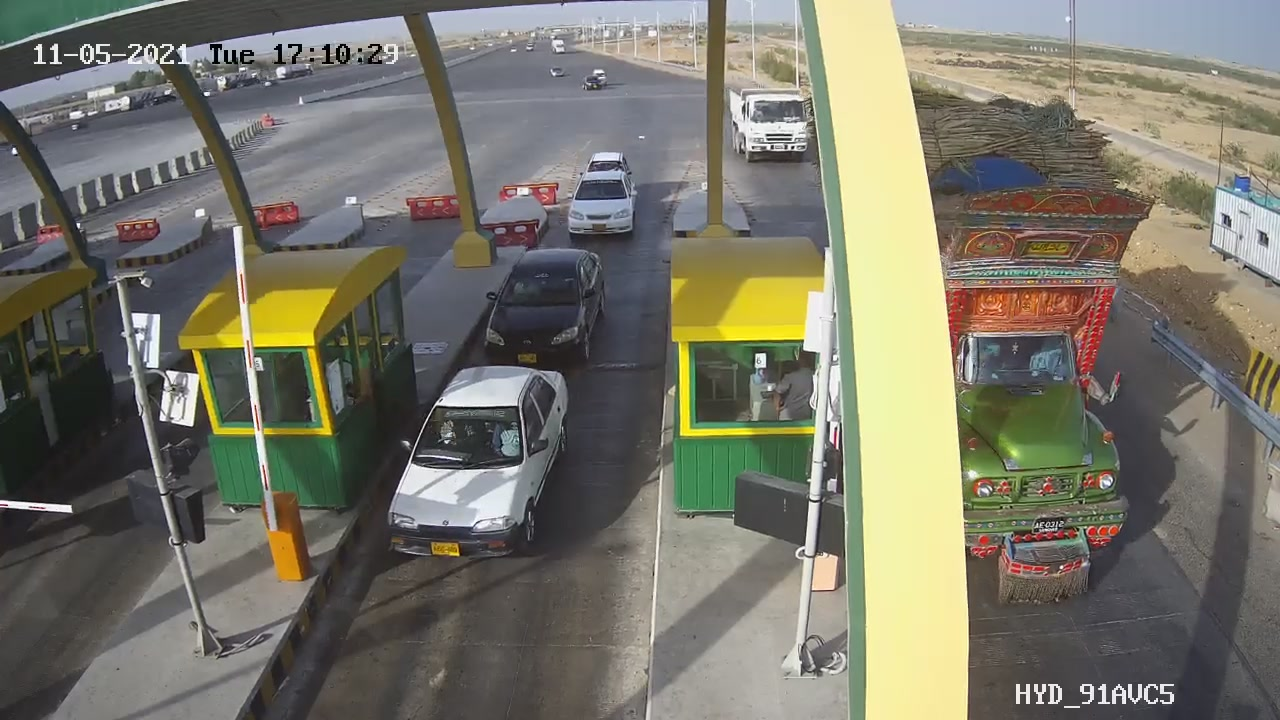F1: (366, 352, 587, 574), (451, 233, 627, 381), (550, 161, 651, 255)
